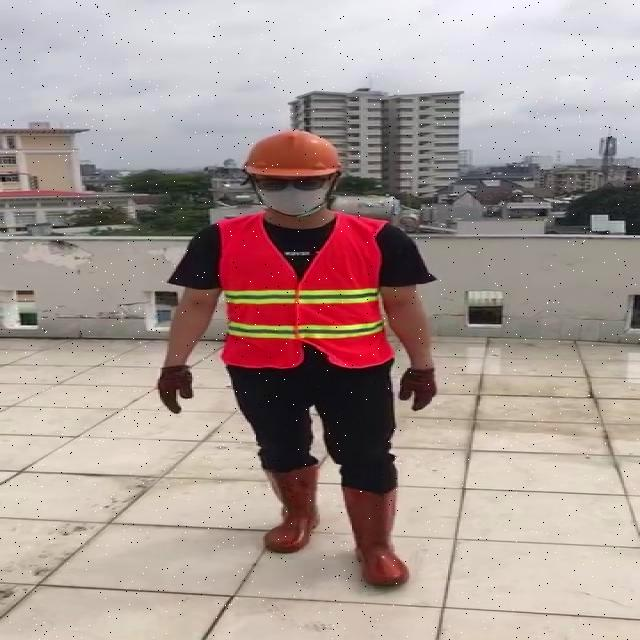Hard_hat: (236, 126, 347, 185)
Person: (144, 92, 441, 602)
Vest: (216, 212, 386, 373)
